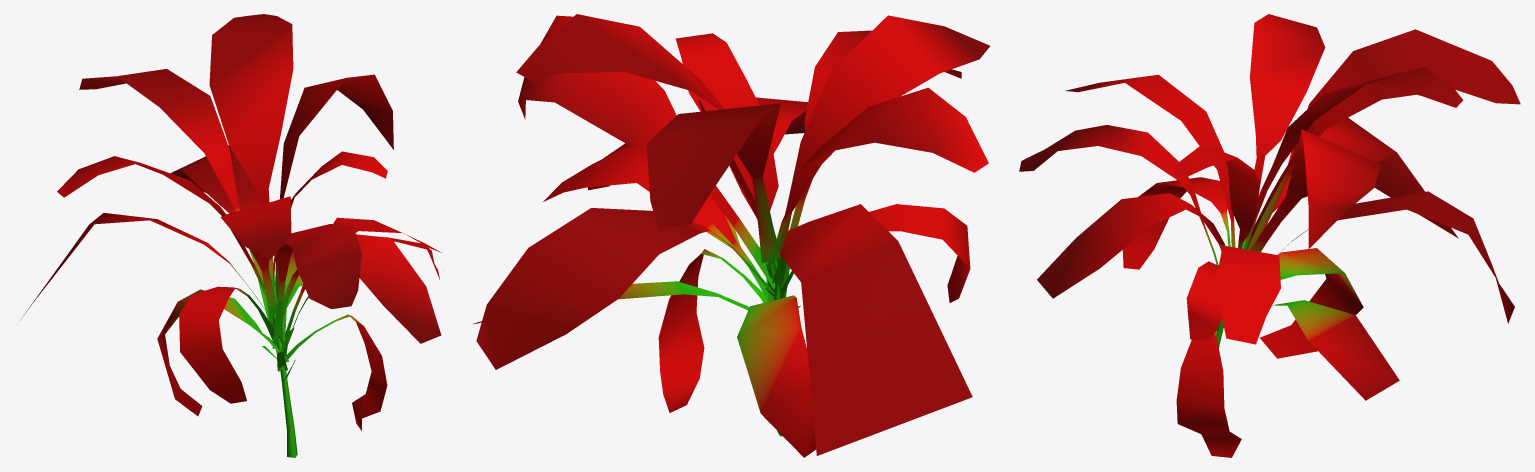
The model's file is Var2_LOD2.fbx.
3 views of the same model, side by side, from view 1: azimuth 30°, elevation 25°; view 2: azimuth 150°, elevation 25°; view 3: azimuth 270°, elevation 25° (orthographic). The views are drawn at different scales.
Parts seen in each view (by area): view 1: _ff25_Var2_LOD2; view 2: _ff25_Var2_LOD2; view 3: _ff25_Var2_LOD2.
Part boxes in pixels (box(x1,y1,x2,y2)): _ff25_Var2_LOD2: box(21, 14, 441, 457); _ff25_Var2_LOD2: box(472, 14, 989, 457); _ff25_Var2_LOD2: box(1019, 14, 1520, 457).
Bounding box in the file's own units: 29.82 × 27.31 × 32.49.
